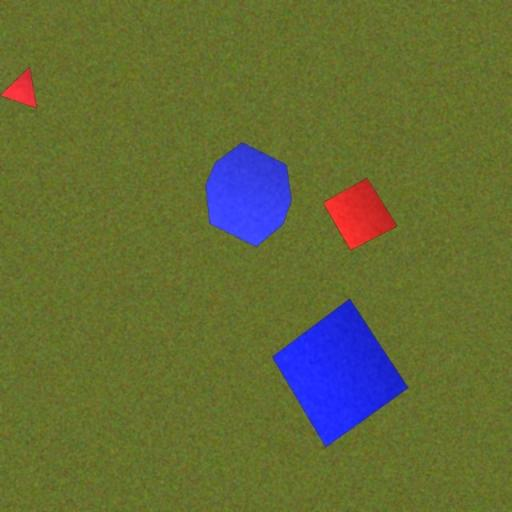BLUE_SQUARE: (271, 298, 410, 448)
RED_SQUARE: (322, 178, 398, 251)
